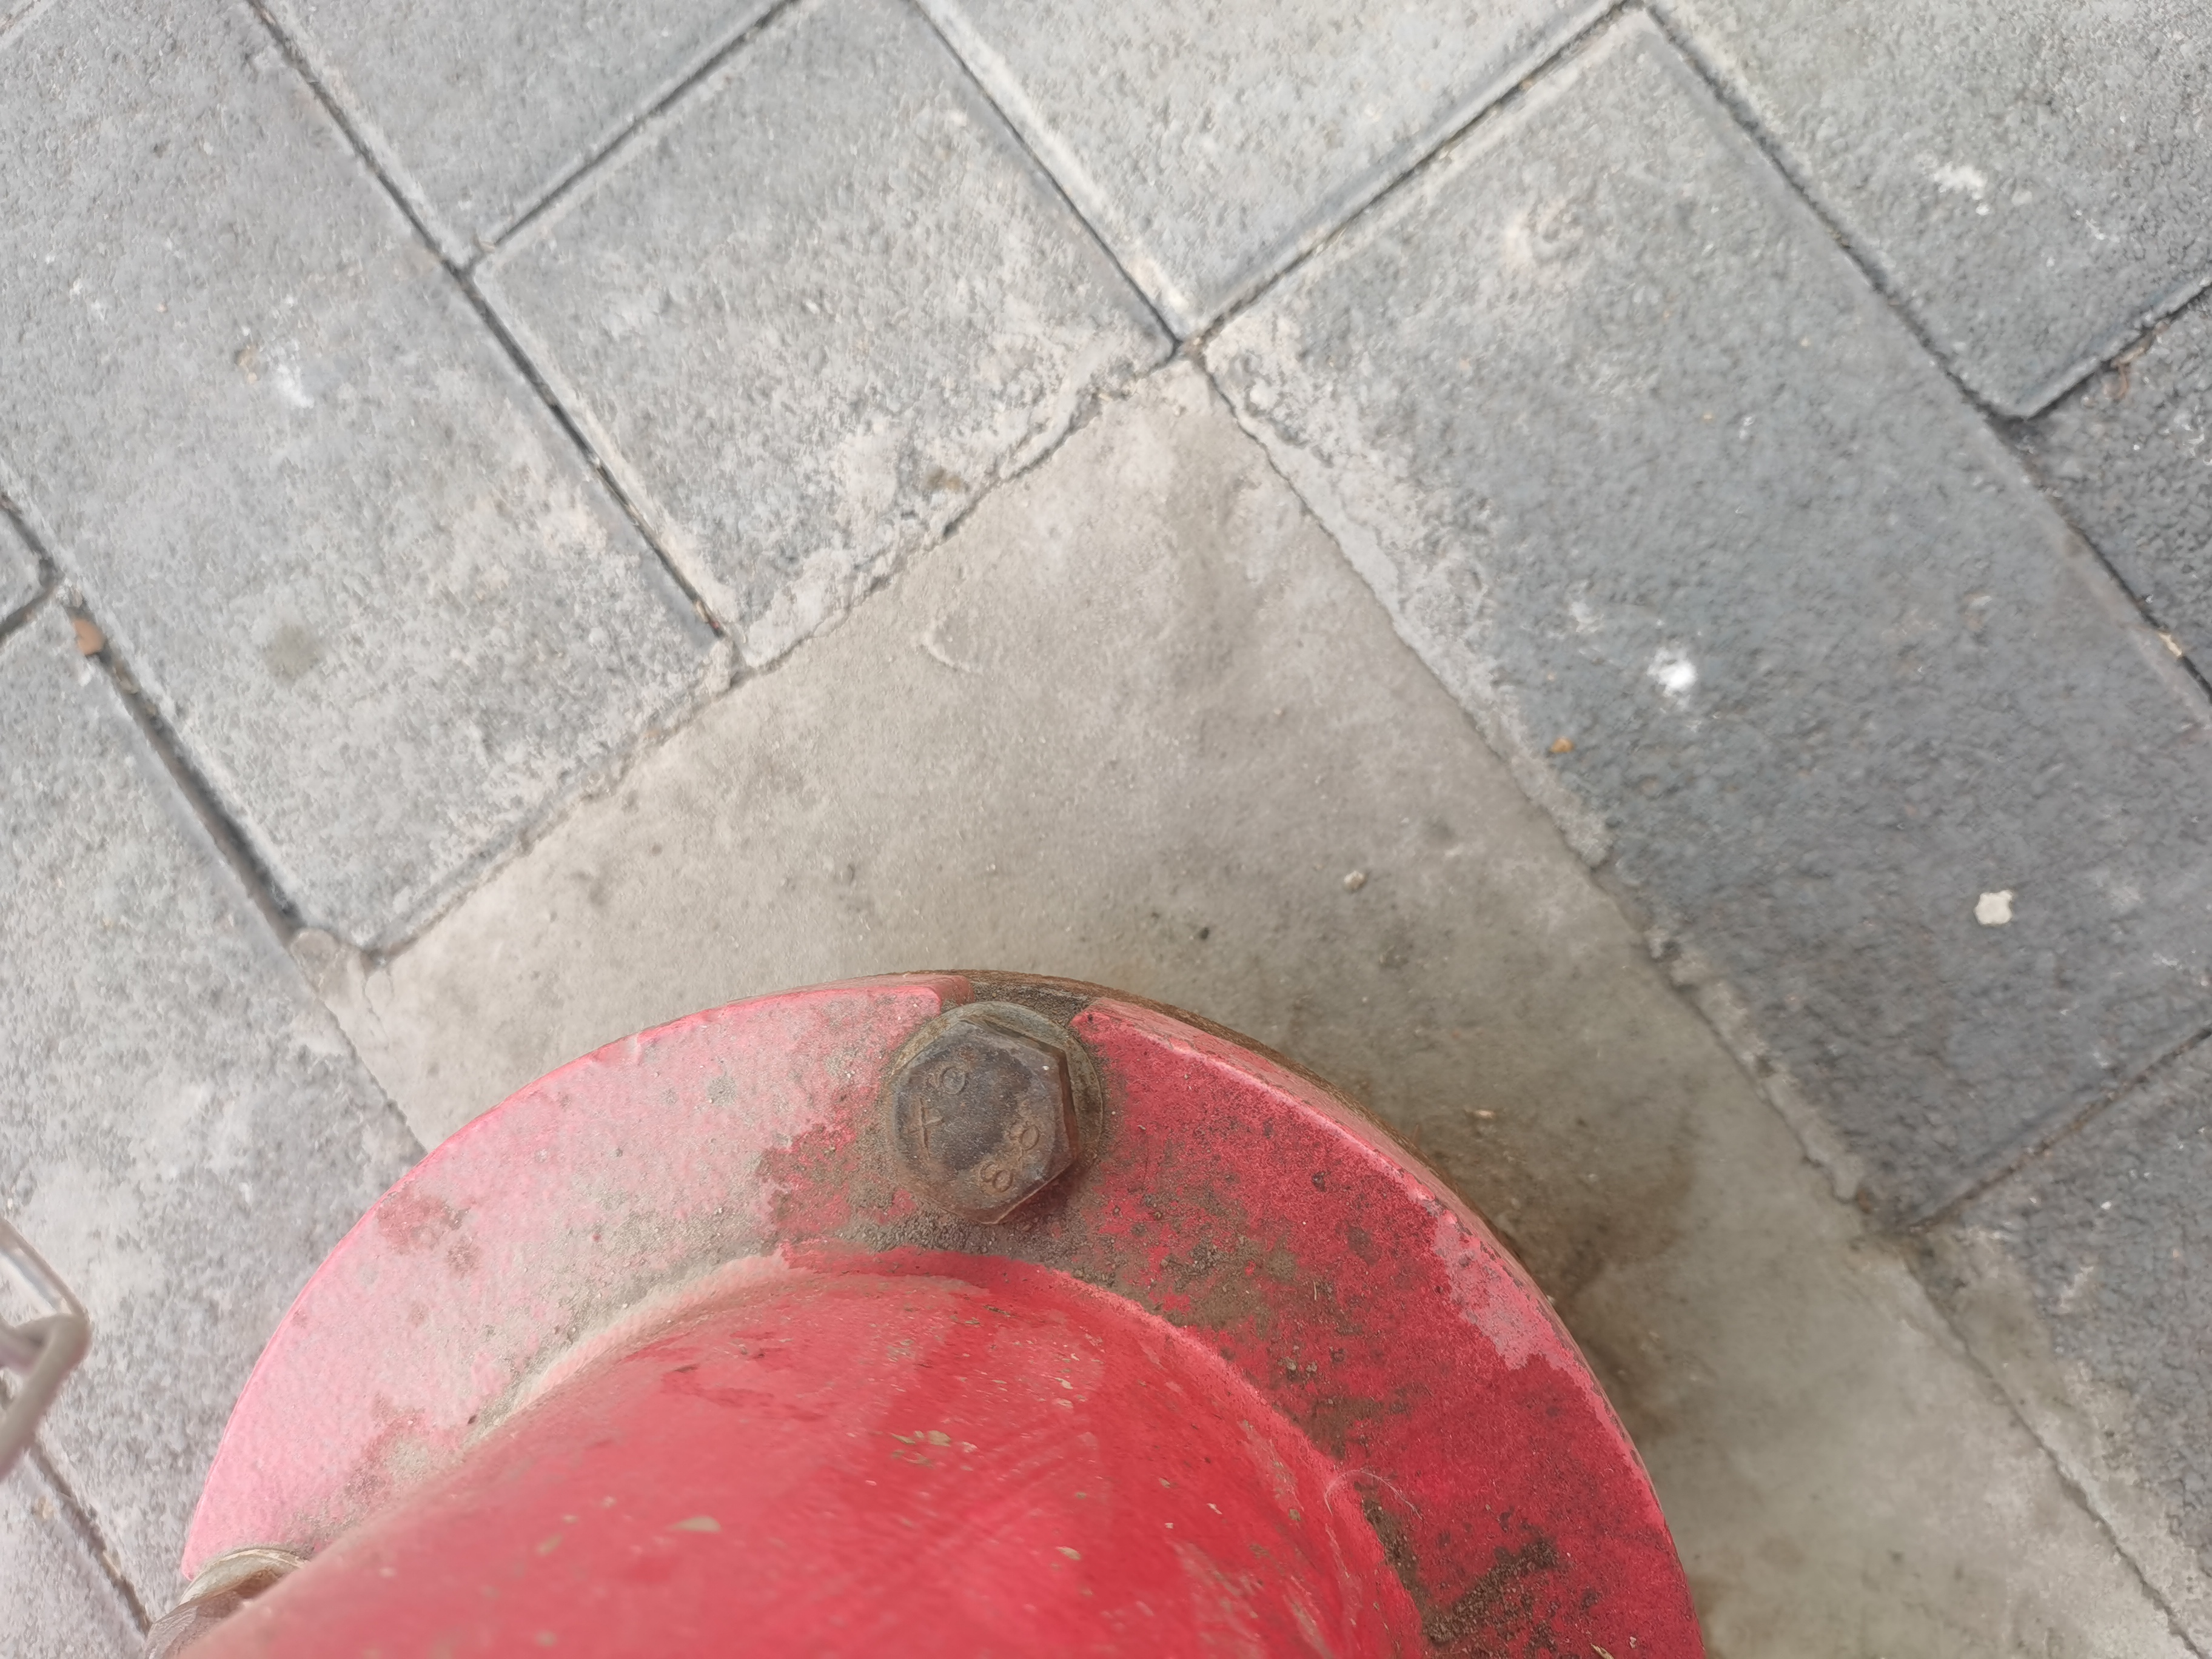bolt_a: (864, 1006, 1083, 1234)
